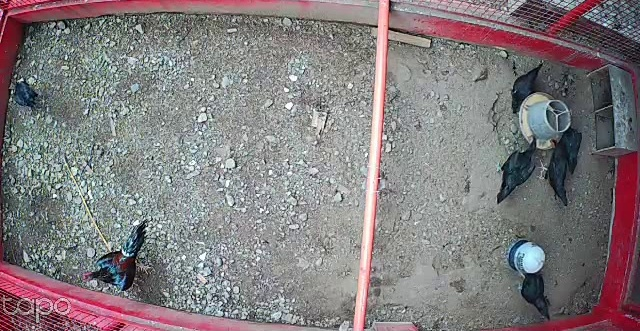Chicken: (492, 133, 540, 206), (534, 137, 572, 207), (516, 267, 553, 321), (509, 62, 545, 116), (558, 124, 584, 175), (10, 77, 44, 112)
Drinker: (507, 239, 546, 273)
Feeder: (520, 91, 573, 151)
Rooster: (81, 215, 154, 297)
